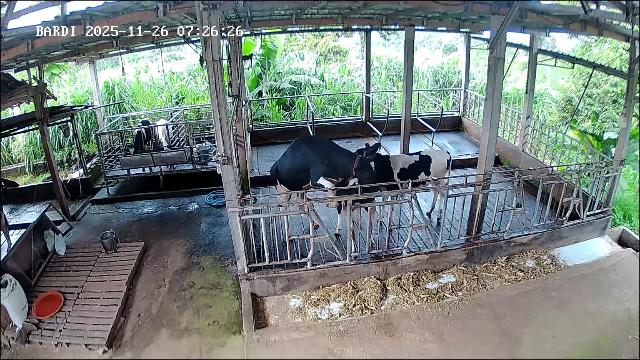mounting: (270, 134, 377, 242)
